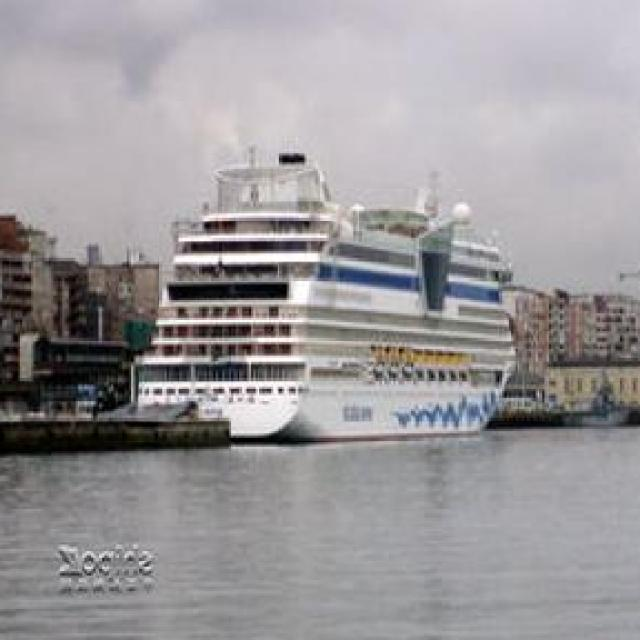passenger ship: (134, 146, 551, 468)
